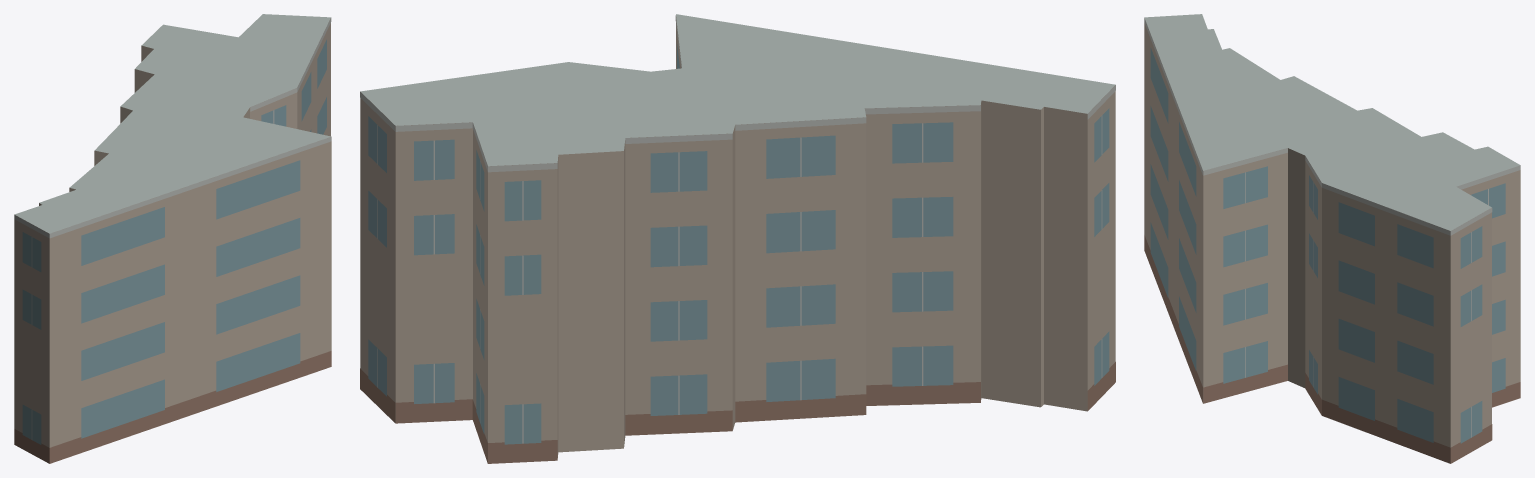
File: survey-upis-32809220.glb
The picture shows the model from 3 angles, left to right: view 1: azimuth 30°, elevation 25°; view 2: azimuth 150°, elevation 25°; view 3: azimuth 270°, elevation 25°; orthographic projection. The views are drawn at different scales.
Parts seen in each view (by area): view 1: survey-upis-32809220.tmp; view 2: survey-upis-32809220.tmp; view 3: survey-upis-32809220.tmp.
Part boxes in pixels (left/top/right/bottom): survey-upis-32809220.tmp: left=14, top=14, right=331, bottom=463; survey-upis-32809220.tmp: left=360, top=14, right=1115, bottom=463; survey-upis-32809220.tmp: left=1144, top=14, right=1520, bottom=463.
Bounding box in the file's own units: 23.88 × 11.94 × 17.5.
